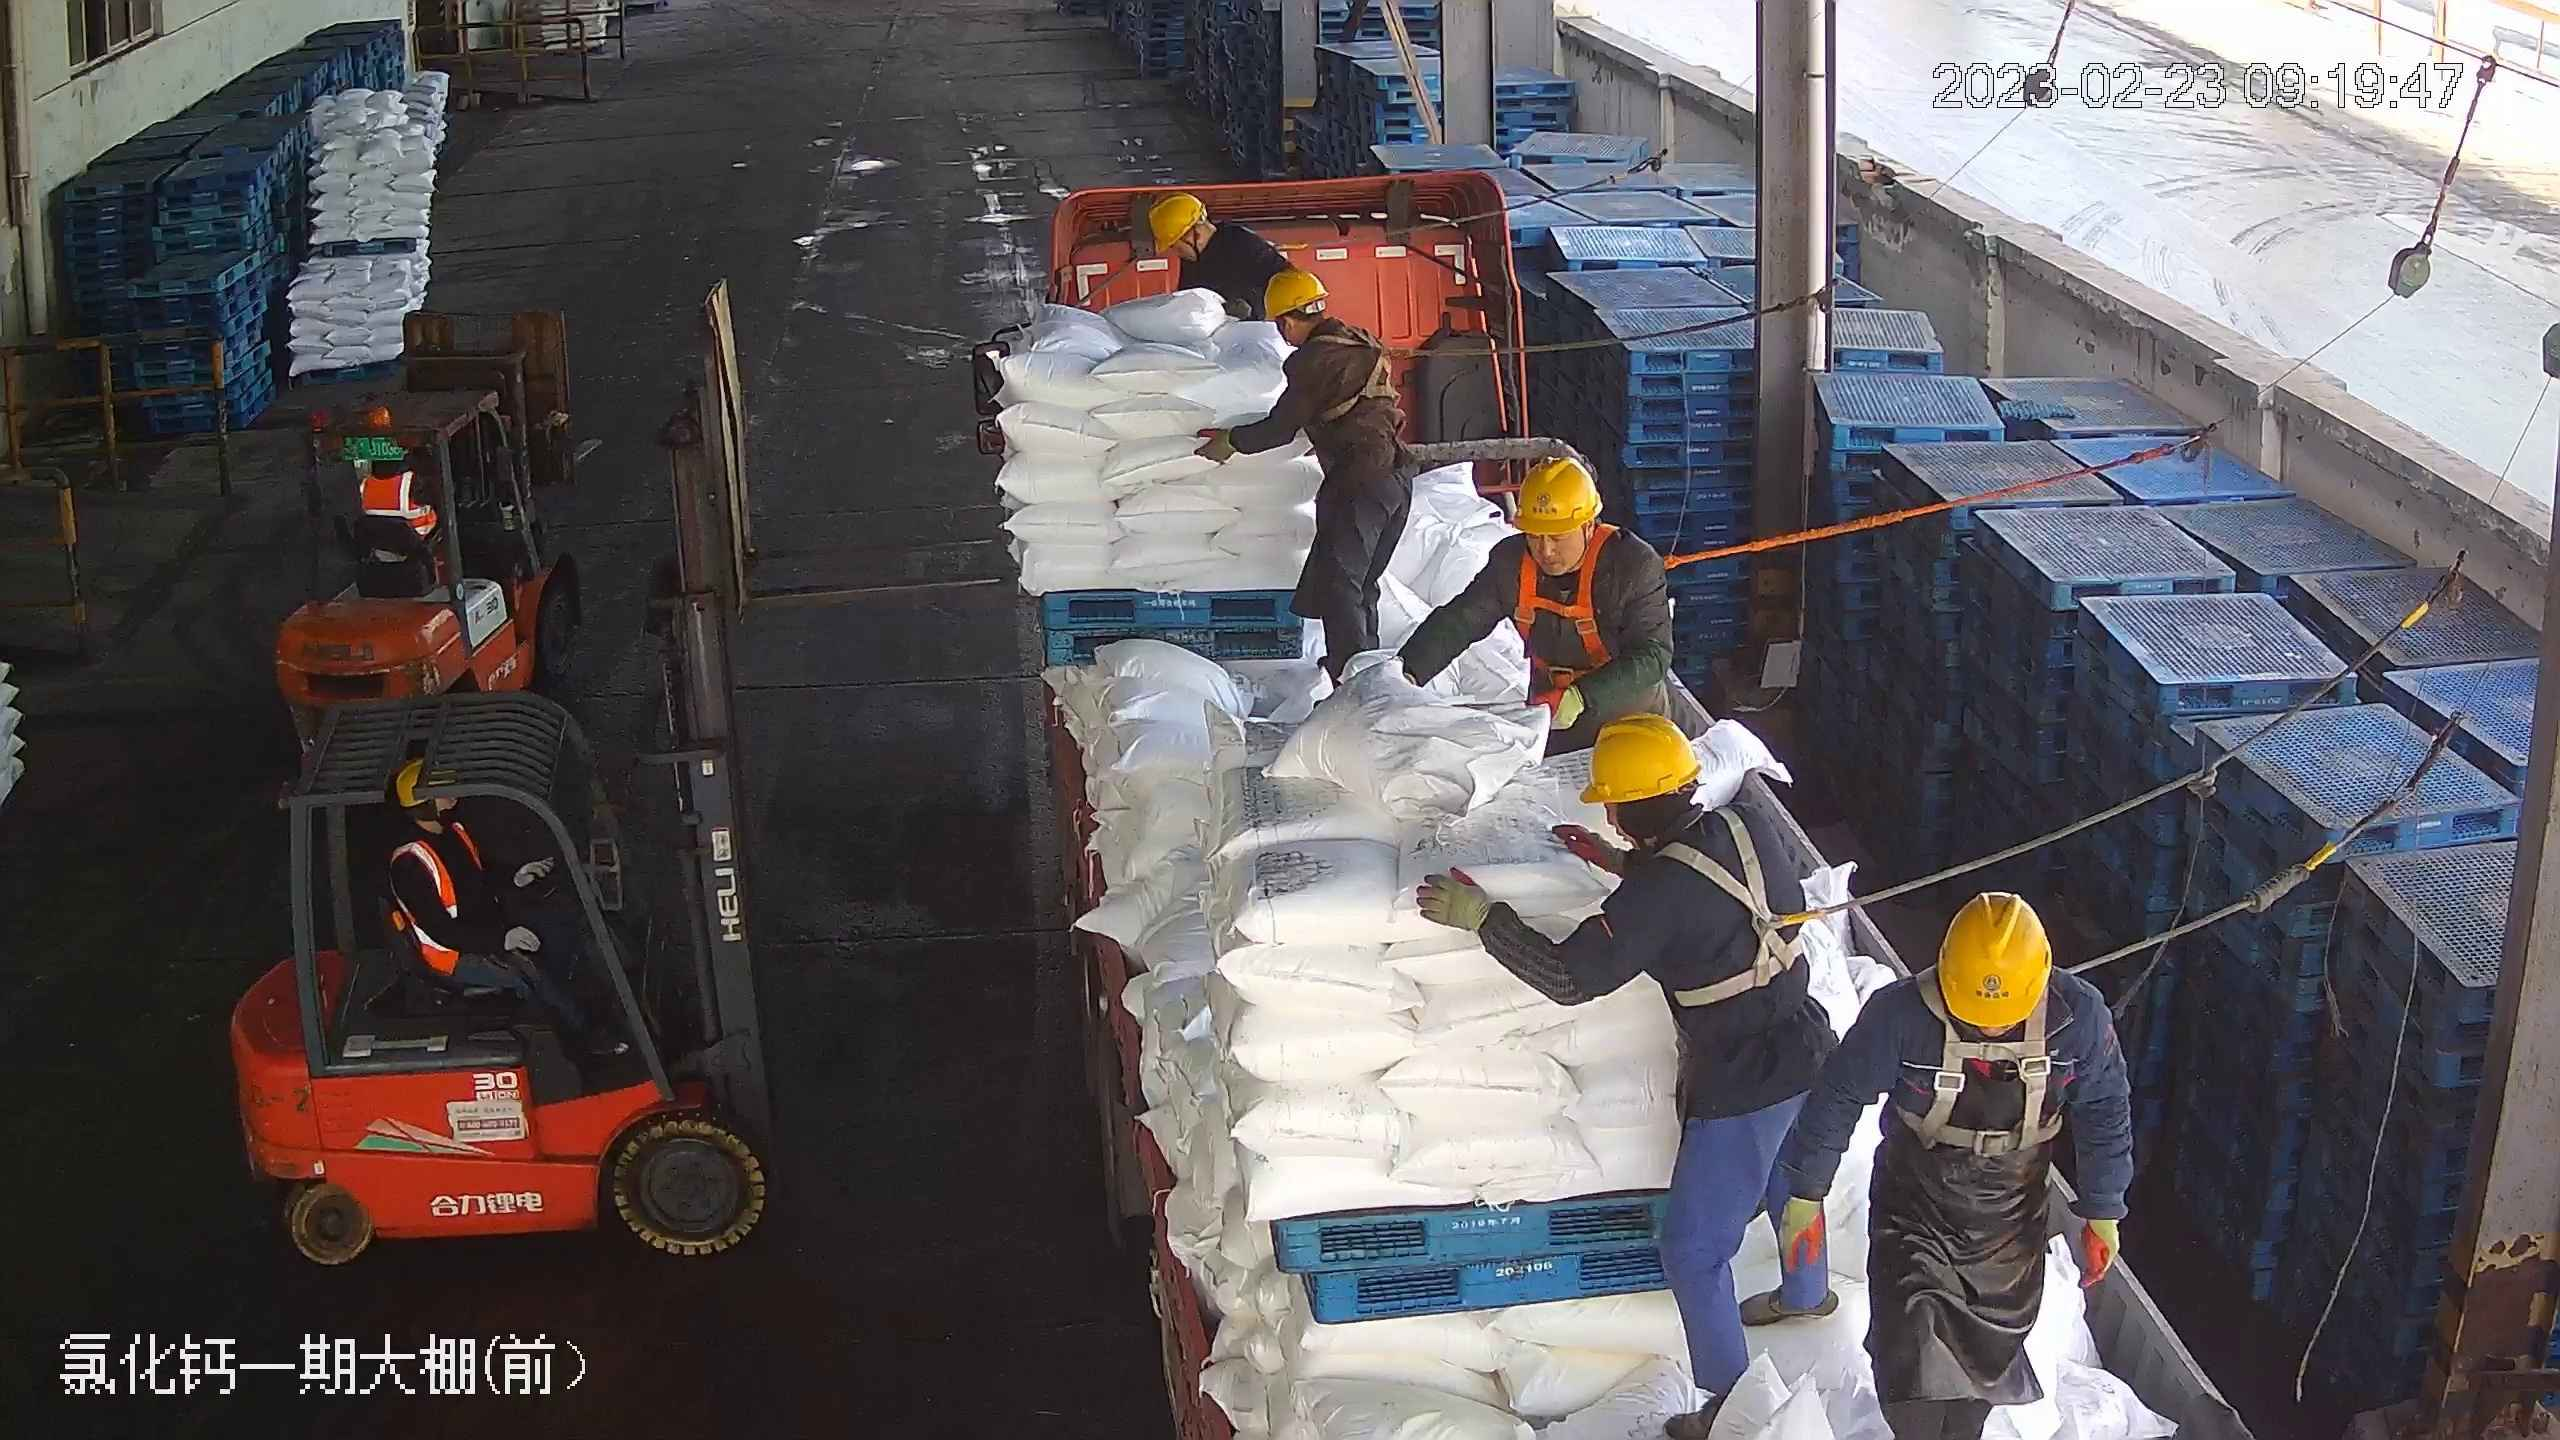belt: (1651, 807, 1832, 1007), (1908, 967, 2068, 1167), (1509, 528, 1642, 679), (1309, 320, 1423, 423), (1244, 223, 1312, 253)
head: (1863, 888, 2110, 1093), (1581, 711, 1798, 926), (1485, 451, 1661, 618), (1259, 268, 1385, 391), (389, 755, 487, 887), (1148, 193, 1259, 280)
helmet: (1939, 888, 2054, 1024), (1580, 712, 1703, 804), (1513, 454, 1599, 535), (1259, 264, 1328, 319), (1147, 191, 1206, 250), (395, 755, 450, 806)
people: (1417, 714, 1841, 1440), (1770, 895, 2136, 1431), (1196, 267, 1412, 701), (1391, 455, 1675, 770), (387, 752, 625, 1056)
truck: (971, 160, 2268, 1433)
